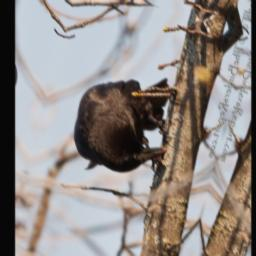Crow: (61, 53, 186, 195)
